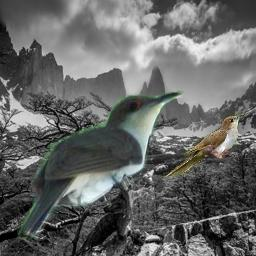Cuckoo: (17, 90, 185, 241), (163, 113, 244, 178)
